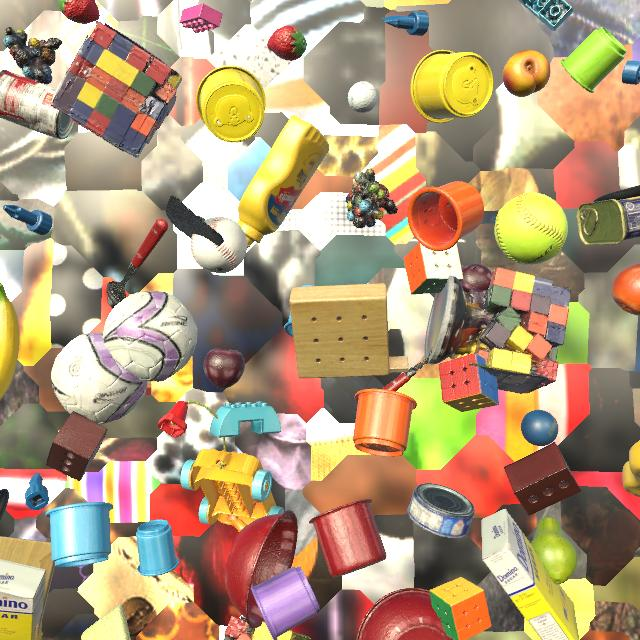ycb_004_sugar_box: (481, 509, 580, 640), (0, 559, 46, 640)
ycb_005_tomato_soup_can: (0, 70, 75, 139)
ycb_006_mustard_bottle: (237, 115, 329, 248), (622, 440, 640, 497)
ycb_007_tuna_fish_can: (407, 483, 475, 538)
ycb_010_potted_meat_can: (577, 196, 640, 245)
ycb_011_banana: (0, 283, 20, 401)
ycb_012_strawberry: (267, 25, 307, 61), (58, 0, 100, 24)
ycb_015_peach: (503, 50, 551, 97)
ycb_016_pear: (531, 517, 578, 584)
ycb_017_orange: (612, 264, 640, 315)
ycb_018_plum: (204, 348, 245, 388), (460, 264, 492, 296)
